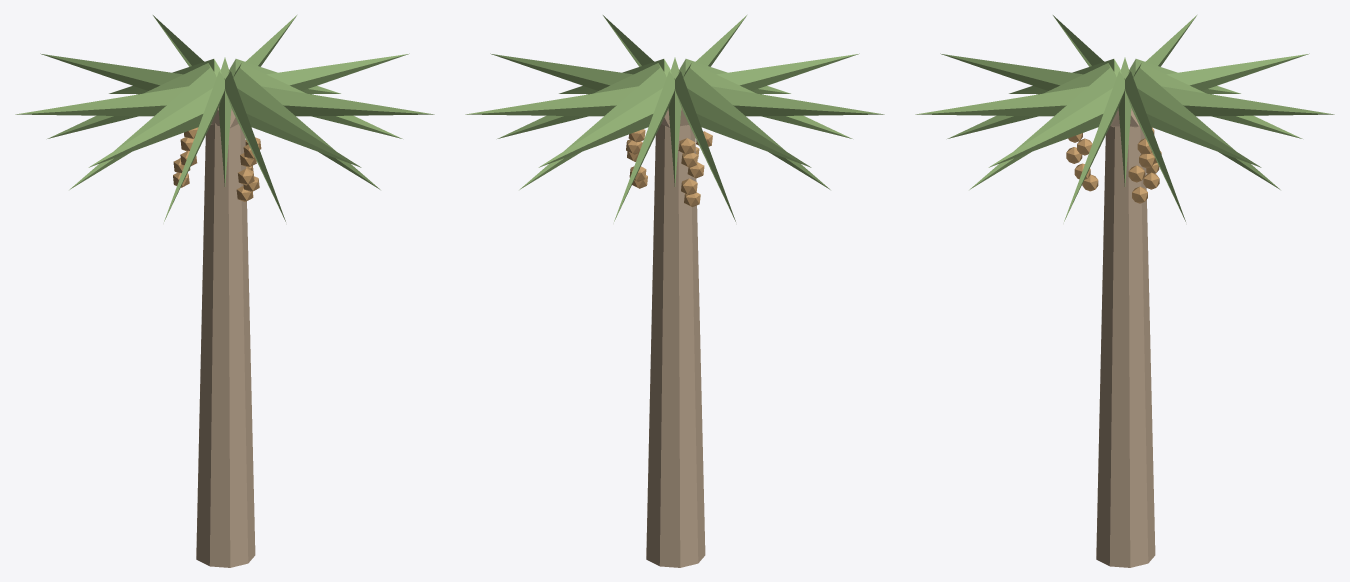
File: date_palm.glb
The picture shows the model from 3 angles, left to right: view 1: azimuth 30°, elevation 25°; view 2: azimuth 150°, elevation 25°; view 3: azimuth 270°, elevation 25°; orthographic projection.
Visible parts, largest first — view 1: date_palm; view 2: date_palm; view 3: date_palm.
Part boxes in pixels (x1=…): date_palm: x1=15, y1=15, x2=434, y2=567; date_palm: x1=465, y1=15, x2=884, y2=567; date_palm: x1=915, y1=15, x2=1334, y2=567.
Bounding box in the file's own units: 2.18 × 2.85 × 2.22.
